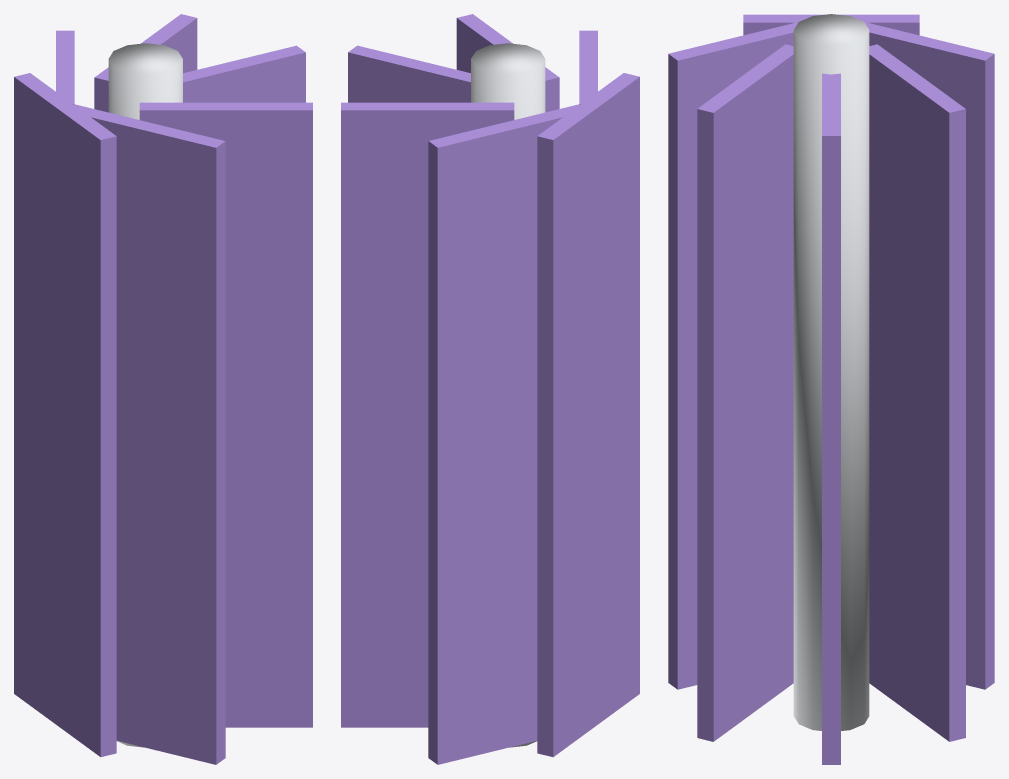
The model's file is brush.glb.
The picture shows the model from 3 angles, left to right: view 1: azimuth 30°, elevation 25°; view 2: azimuth 150°, elevation 25°; view 3: azimuth 270°, elevation 25°; orthographic projection.
Parts seen in each view (by area): view 1: SmartWashBrush; view 2: SmartWashBrush; view 3: SmartWashBrush.
Boxes of the visible parts, left/top/right/bottom form: SmartWashBrush: left=14, top=14, right=312, bottom=764; SmartWashBrush: left=341, top=14, right=639, bottom=764; SmartWashBrush: left=668, top=14, right=994, bottom=764.
Bounding box in the file's own units: 0.9101 × 2.4 × 1.03.
